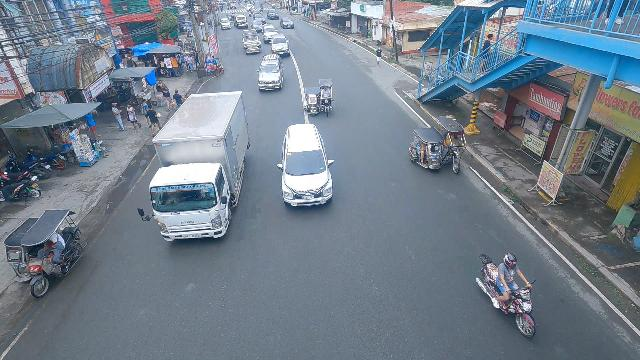car: (277, 123, 335, 209), (257, 54, 284, 94), (269, 33, 290, 56), (262, 24, 278, 44), (251, 20, 264, 34), (280, 17, 295, 29), (220, 17, 232, 30), (267, 8, 279, 20), (253, 14, 266, 25)
jeepney: (242, 29, 262, 55), (234, 14, 249, 29)
motorcycle: (472, 253, 541, 339), (248, 9, 252, 17)
truck: (136, 87, 251, 244)
